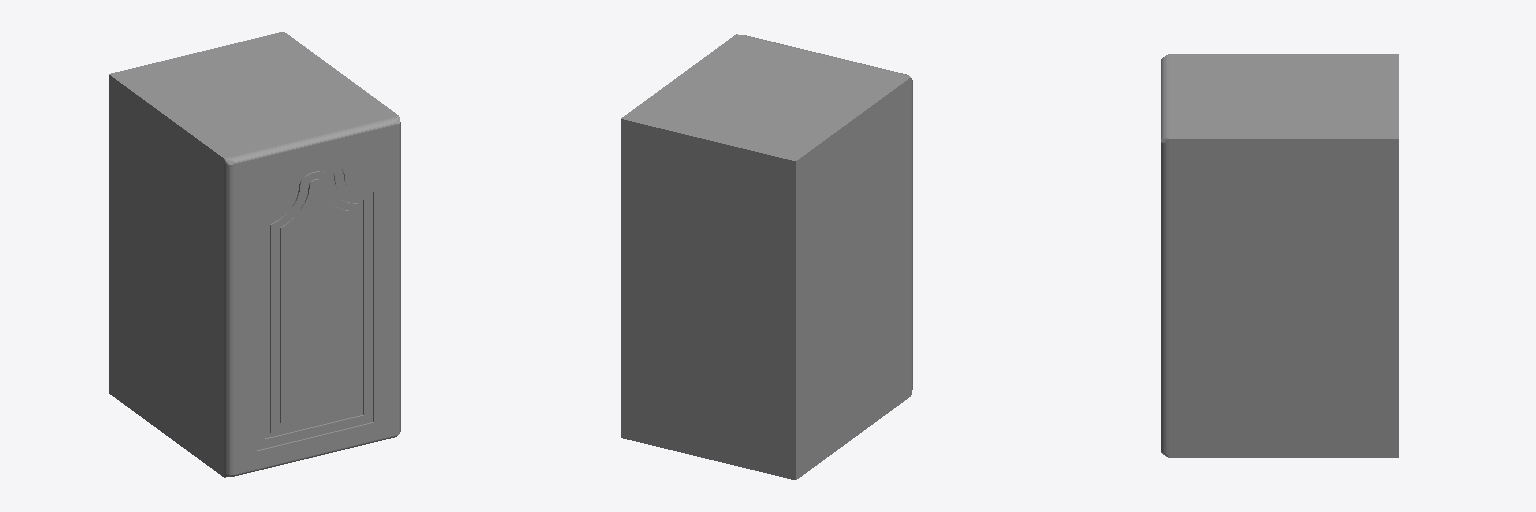
Rendered from single-base-unit-500.obj.
The picture shows the model from 3 angles: view 1: azimuth 30°, elevation 25°; view 2: azimuth 150°, elevation 25°; view 3: azimuth 270°, elevation 25°; orthographic projection.
Parts seen in each view (by area): view 1: Cube.003_Cube.008, Cube.002_Cube.004, Cube_Cube.002, Cube.001_Cube.003; view 2: Cube_Cube.002, Cube.002_Cube.004, Cube.001_Cube.003, Cube.003_Cube.008; view 3: Cube.001_Cube.003, Cube_Cube.002, Cube.003_Cube.008.
Part boxes in pixels (x1,y1,x2,y2): Cube.003_Cube.008: (224, 116, 400, 477); Cube.002_Cube.004: (109, 73, 227, 476); Cube_Cube.002: (115, 33, 392, 156); Cube.001_Cube.003: (279, 32, 398, 116); Cube_Cube.002: (626, 36, 904, 478); Cube.002_Cube.004: (791, 76, 910, 479); Cube.001_Cube.003: (621, 34, 740, 438); Cube.003_Cube.008: (737, 34, 912, 394); Cube.001_Cube.003: (1169, 137, 1398, 457); Cube_Cube.002: (1169, 56, 1398, 136); Cube.003_Cube.008: (1161, 54, 1168, 457).
Bounding box in the file's own units: 100 × 174 × 118.